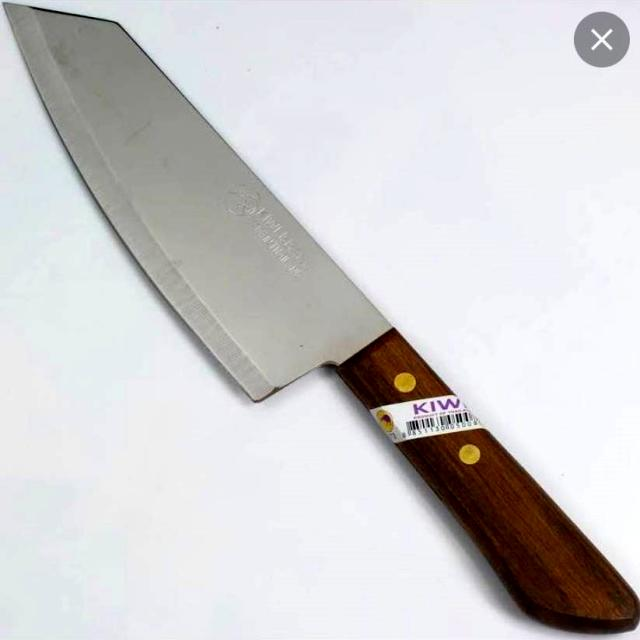knife: (6, 0, 575, 626)
